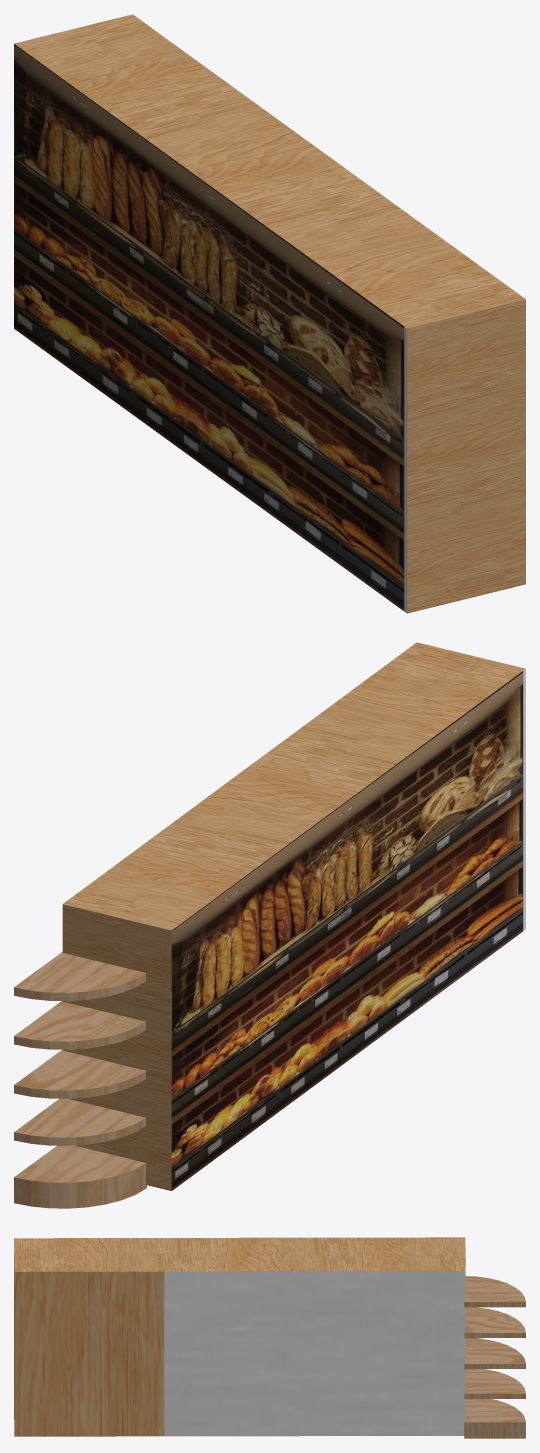
Rendered from bakerycorner2.fbx.
3 renders of one model, top to bottom at view 1: azimuth 30°, elevation 25°; view 2: azimuth 150°, elevation 25°; view 3: azimuth 270°, elevation 25°, orthographic. The views are drawn at different scales.
Parts seen in each view (by area): view 1: Kabinet 1 (main_stage).002; view 2: Kabinet 1 (main_stage).002, Circle.006; view 3: Kabinet 1 (main_stage).002, Circle.006.
Boxes of the visible parts, x1=… form: Kabinet 1 (main_stage).002: x1=14, y1=14, x2=525, y2=613; Kabinet 1 (main_stage).002: x1=62, y1=642, x2=525, y2=1190; Circle.006: x1=14, y1=952, x2=146, y2=1208; Kabinet 1 (main_stage).002: x1=14, y1=1237, x2=465, y2=1436; Circle.006: x1=464, y1=1276, x2=525, y2=1438.
Size of the model in its own units: 1.26 by 2.85 by 7.9.
